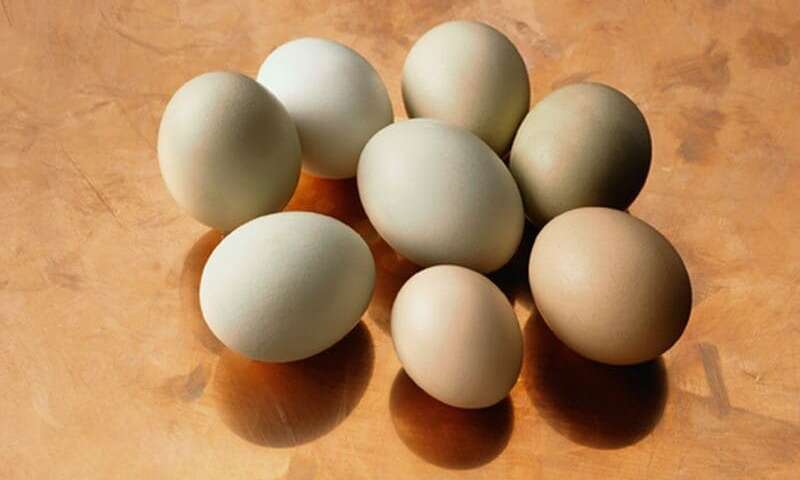Egg: (195, 209, 379, 369)
